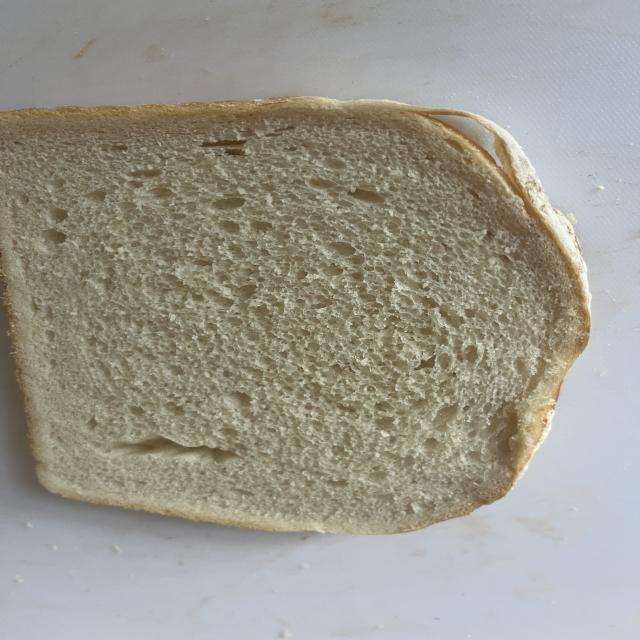sliced_bread: (0, 98, 589, 534)
